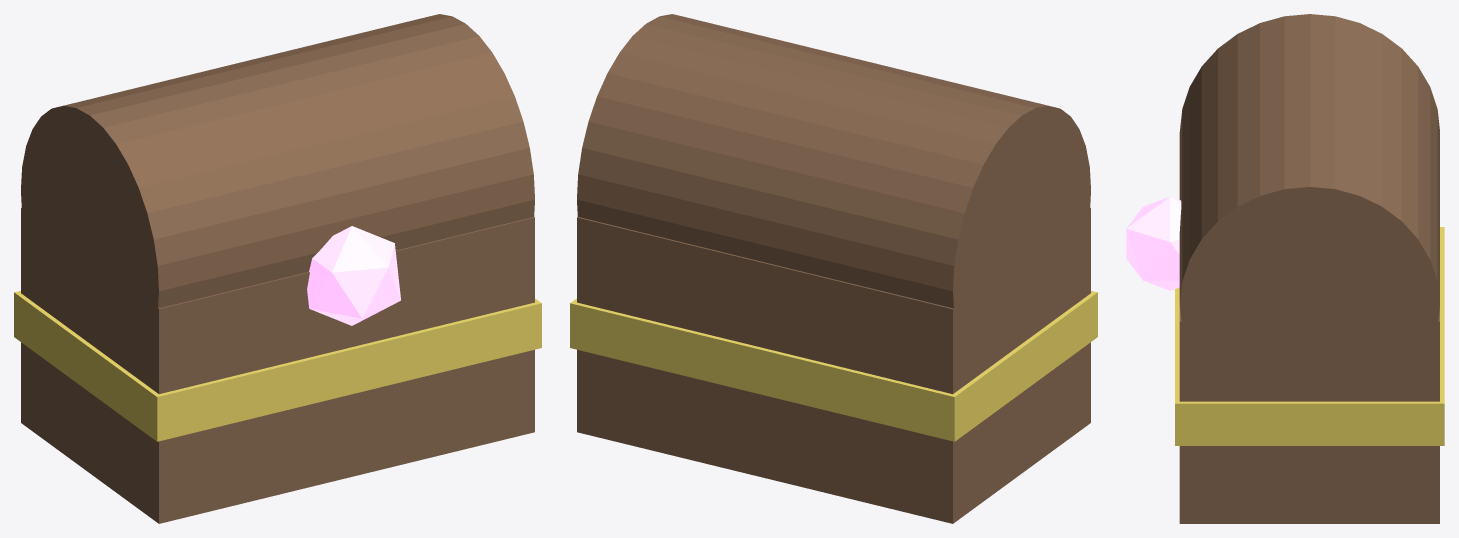
The model's file is Cofre_Recompensas_Lobby.fbx.
3 views of the same model, side by side, from view 1: azimuth 30°, elevation 25°; view 2: azimuth 150°, elevation 25°; view 3: azimuth 270°, elevation 25° (orthographic). The views are drawn at different scales.
Visible parts, largest first — view 1: Chest_Lid, Chest_Body, Chest_GoldBands, Chest_GemLatch; view 2: Chest_Lid, Chest_Body, Chest_GoldBands; view 3: Chest_Lid, Chest_Body, Chest_GoldBands, Chest_GemLatch.
Part boxes in pixels (x1,y1,x2,y2): Chest_Lid: (21,14,534,372); Chest_Body: (21,208,534,523); Chest_GoldBands: (14,290,541,441); Chest_GemLatch: (307,226,400,325); Chest_Lid: (577,14,1090,372); Chest_Body: (577,208,1090,523); Chest_GoldBands: (570,290,1097,441); Chest_Lid: (1179,14,1439,401); Chest_Body: (1179,305,1439,523); Chest_GoldBands: (1175,227,1444,445); Chest_GemLatch: (1126,196,1181,290).
Size of the model in its own units: 225 by 200 by 171.
